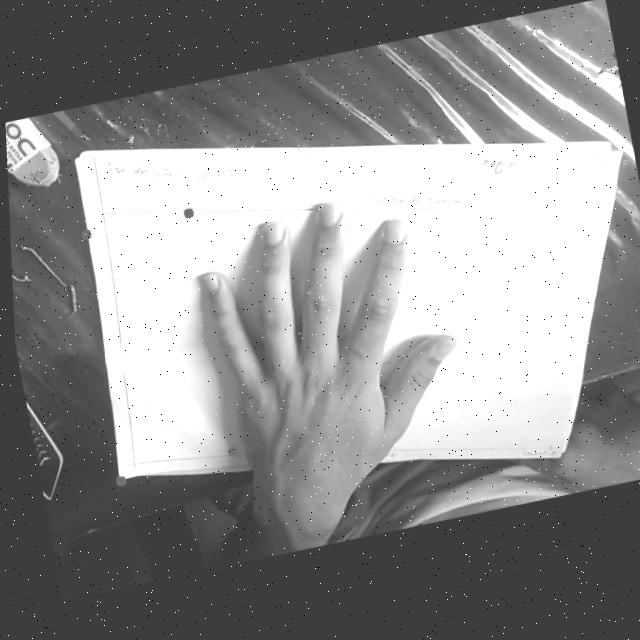document: (77, 143, 621, 478)
